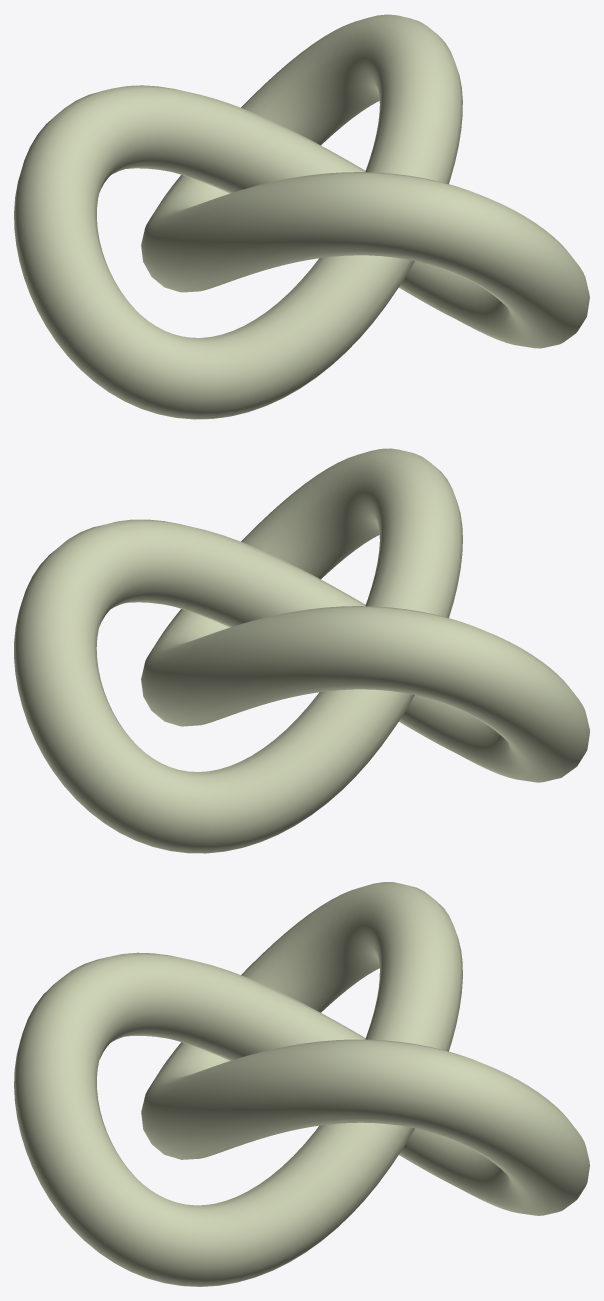
Rendered from TorusKnot.dae.
3 views of the same model, one above another, from view 1: azimuth 30°, elevation 25°; view 2: azimuth 150°, elevation 25°; view 3: azimuth 270°, elevation 25° (orthographic).
Visible parts, largest first — view 1: knot6-0; view 2: knot6-0; view 3: knot6-0.
Boxes of the visible parts, left/top/right/bottom form: knot6-0: left=14, top=14, right=589, bottom=419; knot6-0: left=14, top=448, right=589, bottom=853; knot6-0: left=14, top=882, right=589, bottom=1286.
Bounding box in the file's own units: 2.98 × 1.45 × 3.19.
